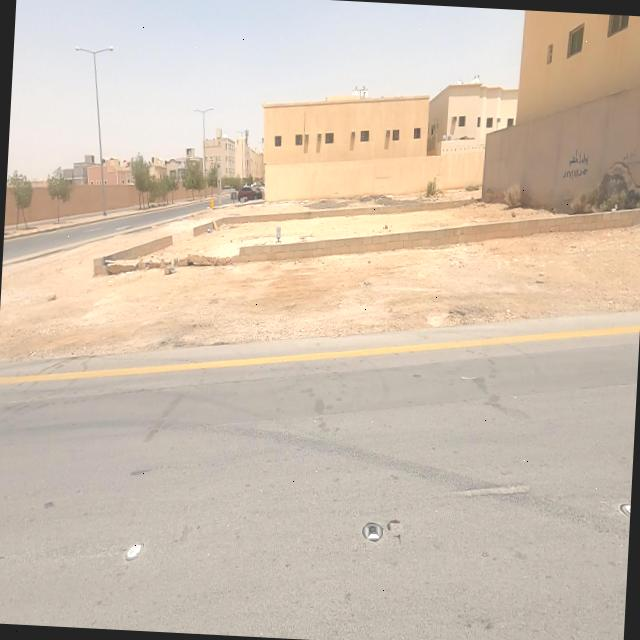Graffiti: (564, 149, 590, 182)
